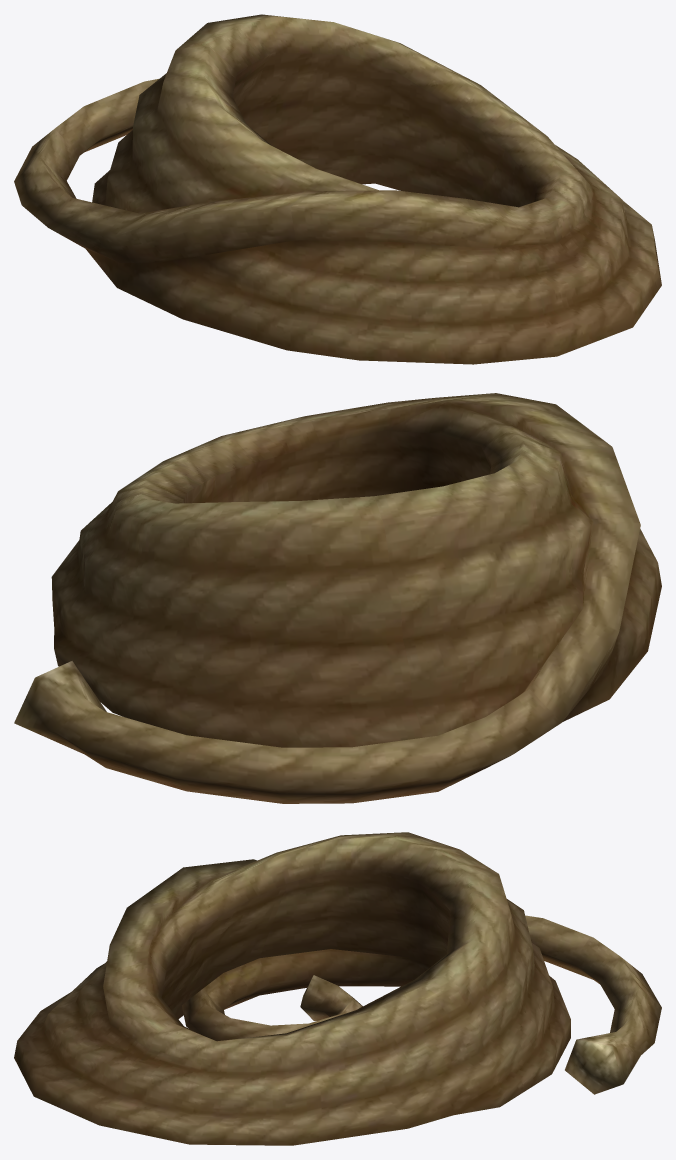
3 renders of one model, top to bottom at view 1: azimuth 30°, elevation 25°; view 2: azimuth 150°, elevation 25°; view 3: azimuth 270°, elevation 25°, orthographic. The views are drawn at different scales.
Bounding box in the file's own units: 1.81 × 0.6639 × 2.37.
Materials: 1 (1 with a texture image).
